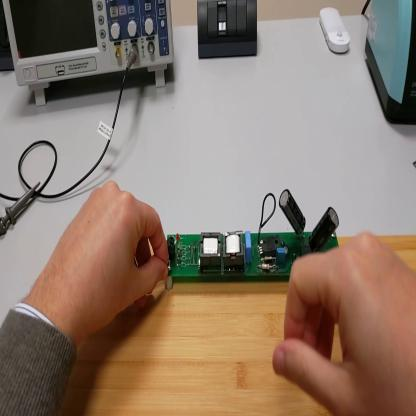hand: (273, 232, 416, 416), (51, 181, 170, 336)
high voltage board: (163, 186, 345, 283)
oscilloscope: (3, 2, 175, 106)
oscilloscope probe tip: (2, 182, 41, 240)
socket: (1, 3, 15, 73)
welder station: (366, 2, 416, 127)
working area: (57, 235, 416, 416)
